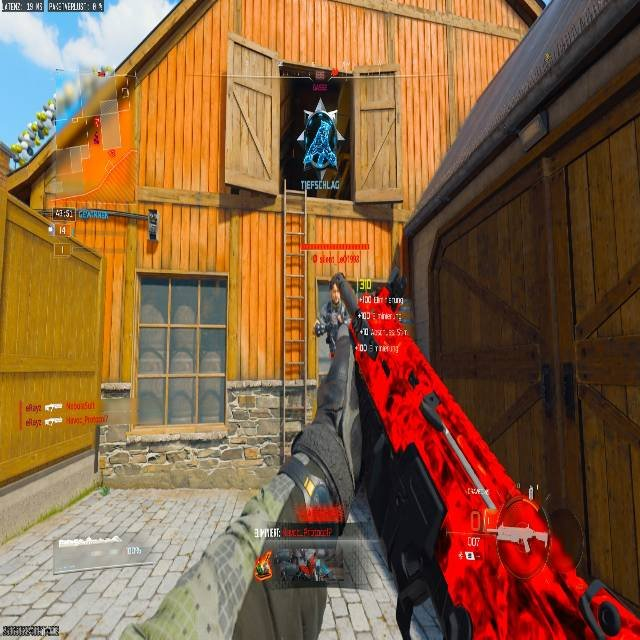head: (328, 272, 345, 303)
player: (318, 268, 370, 372), (294, 103, 344, 197), (317, 273, 350, 358), (318, 292, 343, 379)
